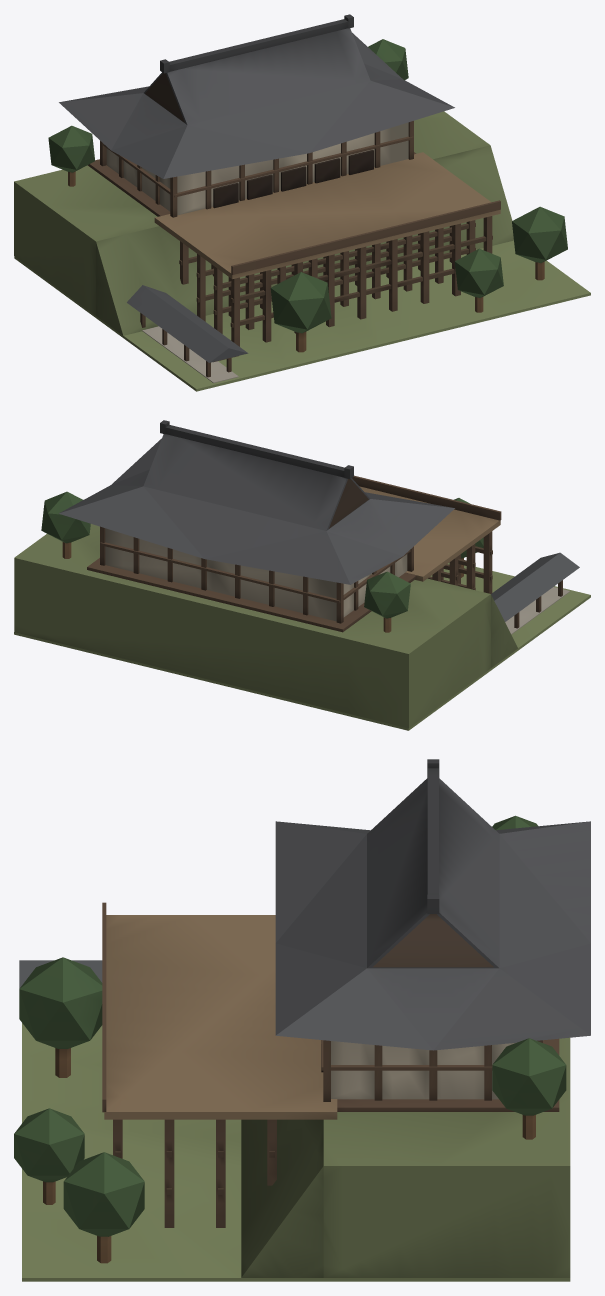
The model's file is nigatsudo.glb.
3 views of the same model, one above another, from view 1: azimuth 30°, elevation 25°; view 2: azimuth 150°, elevation 25°; view 3: azimuth 270°, elevation 25° (orthographic). The views are drawn at different scales.
Visible parts, largest first — view 1: p1_halls, p2_roofs, p0_grounds; view 2: p0_grounds, p2_roofs, p1_halls; view 3: p2_roofs, p0_grounds, p1_halls.
Boxes of the visible parts, bbox=[...] form: p1_halls: bbox=[87, 121, 500, 383]; p2_roofs: bbox=[48, 14, 567, 352]; p0_grounds: bbox=[14, 111, 590, 391]; p0_grounds: bbox=[14, 524, 590, 730]; p2_roofs: bbox=[41, 420, 483, 632]; p1_halls: bbox=[87, 475, 579, 634]; p2_roofs: bbox=[14, 759, 590, 1263]; p0_grounds: bbox=[22, 1023, 570, 1281]; p1_halls: bbox=[19, 902, 559, 1227].
Bounding box in the file's own units: 50.13 × 24.78 × 42.08.
